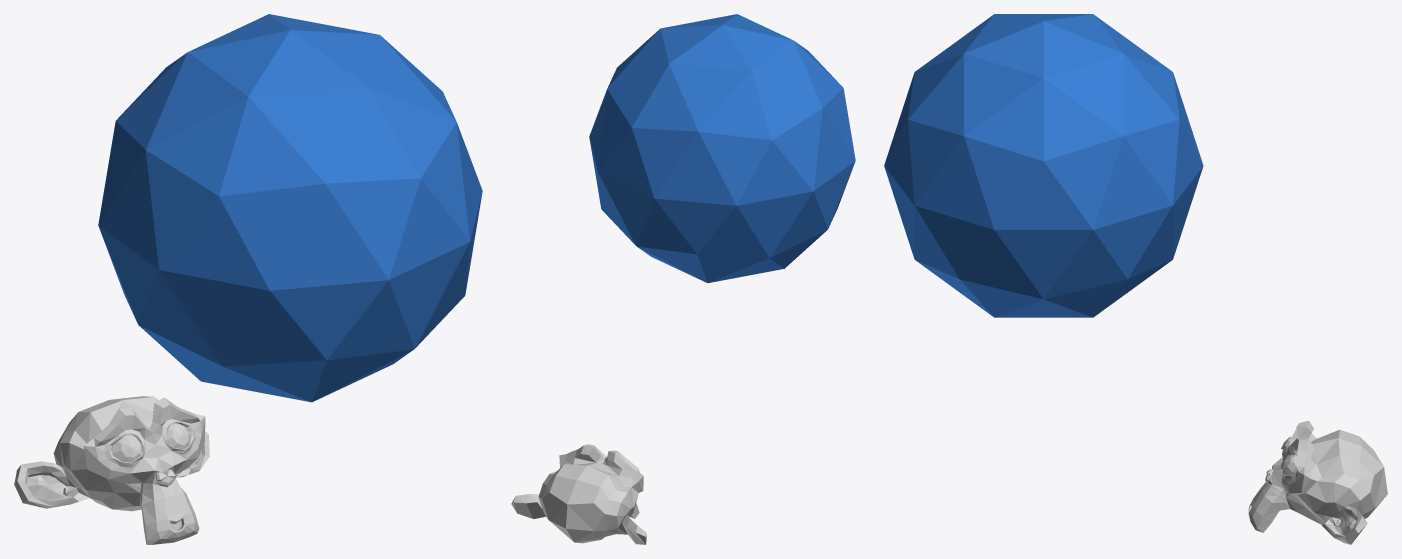
The model's file is texture_03.dae.
The picture shows the model from 3 angles, left to right: view 1: azimuth 30°, elevation 25°; view 2: azimuth 150°, elevation 25°; view 3: azimuth 270°, elevation 25°; orthographic projection. The views are drawn at different scales.
Parts seen in each view (by area): view 1: Icosphere, Suzanne; view 2: Icosphere, Suzanne; view 3: Icosphere, Suzanne.
Boxes of the visible parts, x1,y1,x2,y2 form: Icosphere: (98, 14, 482, 402); Suzanne: (14, 396, 209, 544); Icosphere: (589, 14, 855, 283); Suzanne: (511, 444, 646, 544); Icosphere: (884, 14, 1203, 317); Suzanne: (1248, 420, 1387, 544).
Size of the model in its own units: 1.9 by 3.15 by 3.44.
